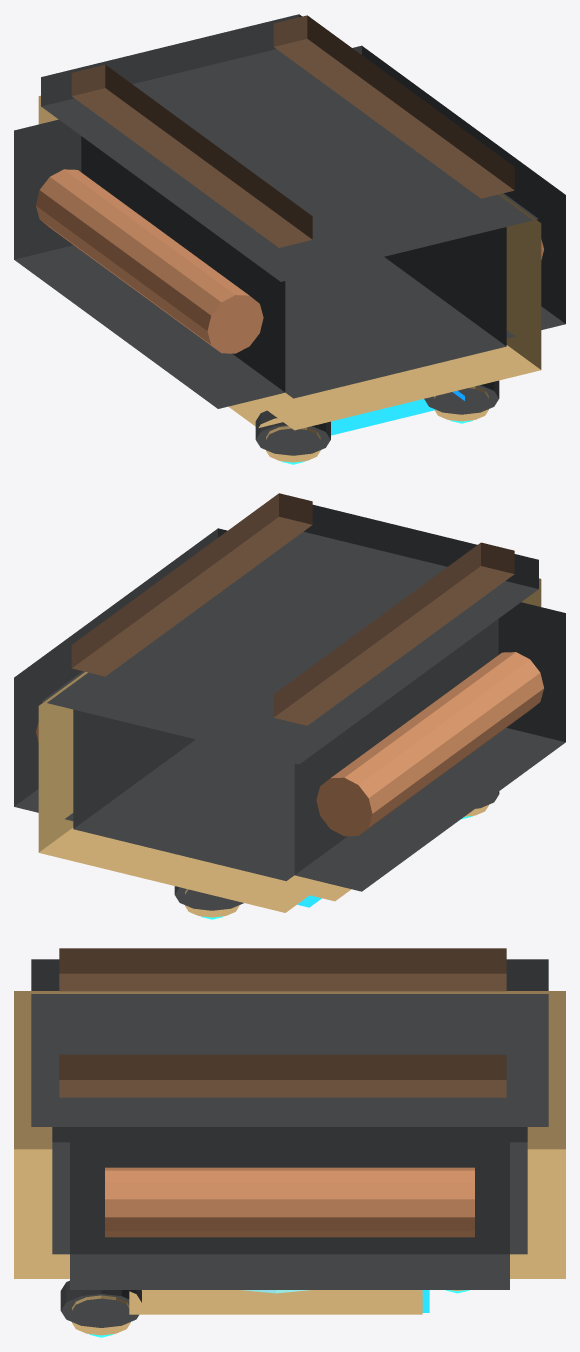
File: SM_Gnome_AetherTek_PowerNexus_FuelCell_01_LOD1.glb
3 renders of one model, top to bottom at view 1: azimuth 30°, elevation 25°; view 2: azimuth 150°, elevation 25°; view 3: azimuth 270°, elevation 25°, orthographic. The views are drawn at different scales.
Visible parts, largest first — view 1: RearMount_DarkIron_SocketBackplate, SideClamp_-25, Housing_DarkIron_CartridgeBody, SideCapacitor_-25_CopperTube, TopBottom_Brass_Collars, RearLeather_Strap_-18, RearLeather_Strap_18, SideClamp_25, HardpointSocket_LeftPowerRoute_DarkIronSocketCup, HardpointSocket_RightPowerRoute_DarkIronSocketCup, AetheriumTrace_FrontGlow, LensGuard_Brass_FrameVertical; view 2: RearMount_DarkIron_SocketBackplate, SideClamp_-25, Housing_DarkIron_CartridgeBody, SideCapacitor_-25_CopperTube, TopBottom_Brass_Collars, RearLeather_Strap_-18, RearLeather_Strap_18, SideClamp_25, HardpointSocket_LowerReturnRoute_DarkIronSocketCup; view 3: RearMount_DarkIron_SocketBackplate, SideClamp_25, SideCapacitor_25_CopperTube, RearLeather_Strap_-18, RearLeather_Strap_18, TopBottom_Brass_Collars, LensGuard_Brass_FrameVertical, Housing_DarkIron_CartridgeBody, HardpointSocket_RightPowerRoute_DarkIronSocketCup, HardpointSocket_RightPowerRoute_BrassContactRing.
Part boxes in pixels (x1=…): RearMount_DarkIron_SocketBackplate: x1=41, y1=14, x2=538, y2=281; SideClamp_-25: x1=14, y1=119, x2=285, y2=408; Housing_DarkIron_CartridgeBody: x1=285, y1=227, x2=506, y2=398; SideCapacitor_-25_CopperTube: x1=36, y1=169, x2=263, y2=353; TopBottom_Brass_Collars: x1=38, y1=95, x2=541, y2=430; RearLeather_Strap_-18: x1=71, y1=64, x2=312, y2=247; RearLeather_Strap_18: x1=273, y1=15, x2=514, y2=198; SideClamp_25: x1=352, y1=45, x2=565, y2=338; HardpointSocket_LeftPowerRoute_DarkIronSocketCup: x1=255, y1=410, x2=330, y2=455; HardpointSocket_RightPowerRoute_DarkIronSocketCup: x1=424, y1=380, x2=499, y2=414; AetheriumTrace_FrontGlow: x1=331, y1=390, x2=464, y2=435; LensGuard_Brass_FrameVertical: x1=228, y1=400, x2=282, y2=427; RearMount_DarkIron_SocketBackplate: x1=41, y1=504, x2=538, y2=764; SideClamp_-25: x1=294, y1=602, x2=565, y2=891; Housing_DarkIron_CartridgeBody: x1=73, y1=709, x2=294, y2=881; SideCapacitor_-25_CopperTube: x1=316, y1=652, x2=543, y2=836; TopBottom_Brass_Collars: x1=38, y1=578, x2=541, y2=912; RearLeather_Strap_-18: x1=273, y1=542, x2=514, y2=725; RearLeather_Strap_18: x1=71, y1=493, x2=312, y2=676; SideClamp_25: x1=14, y1=528, x2=227, y2=820; HardpointSocket_LowerReturnRoute_DarkIronSocketCup: x1=174, y1=886, x2=243, y2=910; RearMount_DarkIron_SocketBackplate: x1=31, y1=959, x2=548, y2=1126; SideClamp_25: x1=70, y1=1127, x2=509, y2=1289; SideCapacitor_25_CopperTube: x1=105, y1=1167, x2=474, y2=1237; RearLeather_Strap_-18: x1=59, y1=948, x2=506, y2=991; RearLeather_Strap_18: x1=59, y1=1054, x2=506, y2=1097; TopBottom_Brass_Collars: x1=14, y1=991, x2=565, y2=1278; LensGuard_Brass_FrameVertical: x1=129, y1=1290, x2=422, y2=1314; Housing_DarkIron_CartridgeBody: x1=52, y1=1127, x2=527, y2=1254; HardpointSocket_RightPowerRoute_DarkIronSocketCup: x1=60, y1=1280, x2=141, y2=1327; HardpointSocket_RightPowerRoute_BrassContactRing: x1=72, y1=1295, x2=130, y2=1335.
Size of the model in its own units: 62 by 43.8 by 79.
